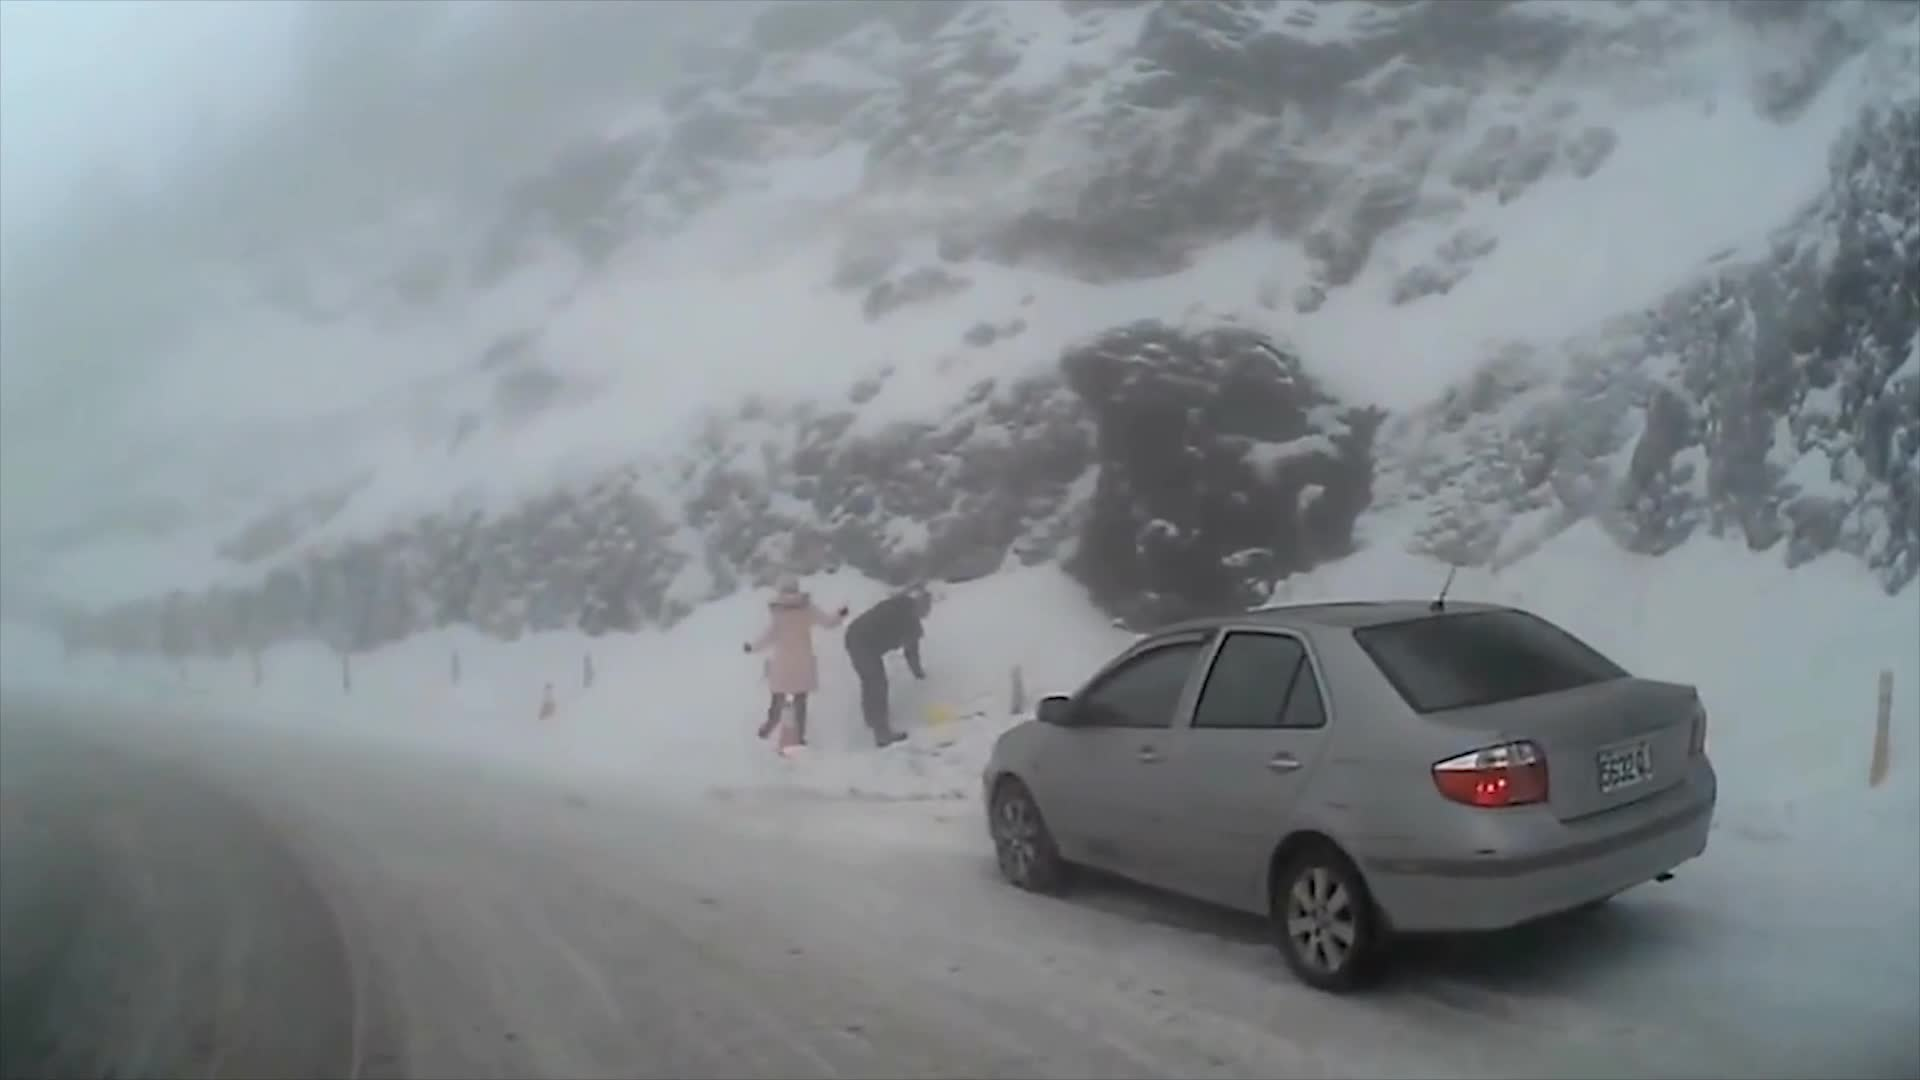pedestrian: (743, 570, 848, 748), (845, 591, 935, 744)
vehicle: (983, 597, 1716, 994)
